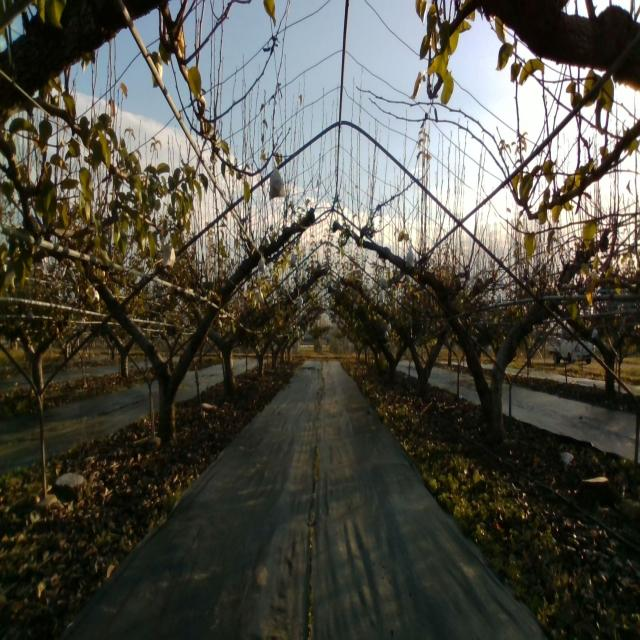pearbags: (268, 165, 286, 201), (161, 241, 175, 275), (404, 247, 416, 268)
